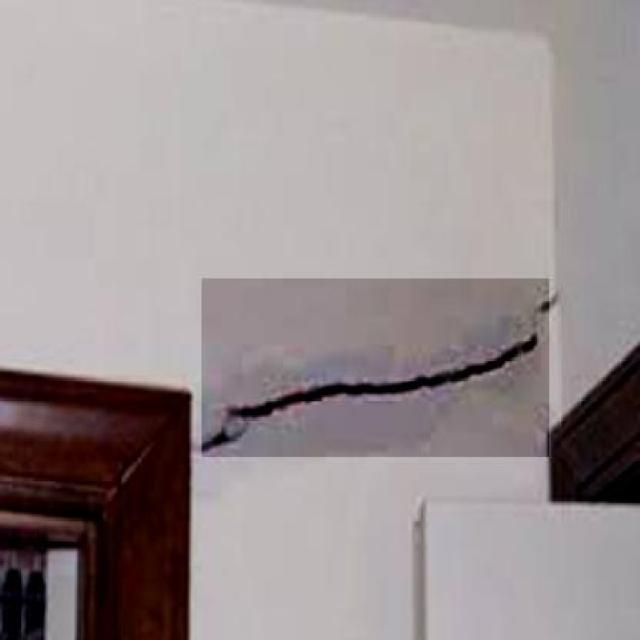Crack: (210, 286, 556, 450)
